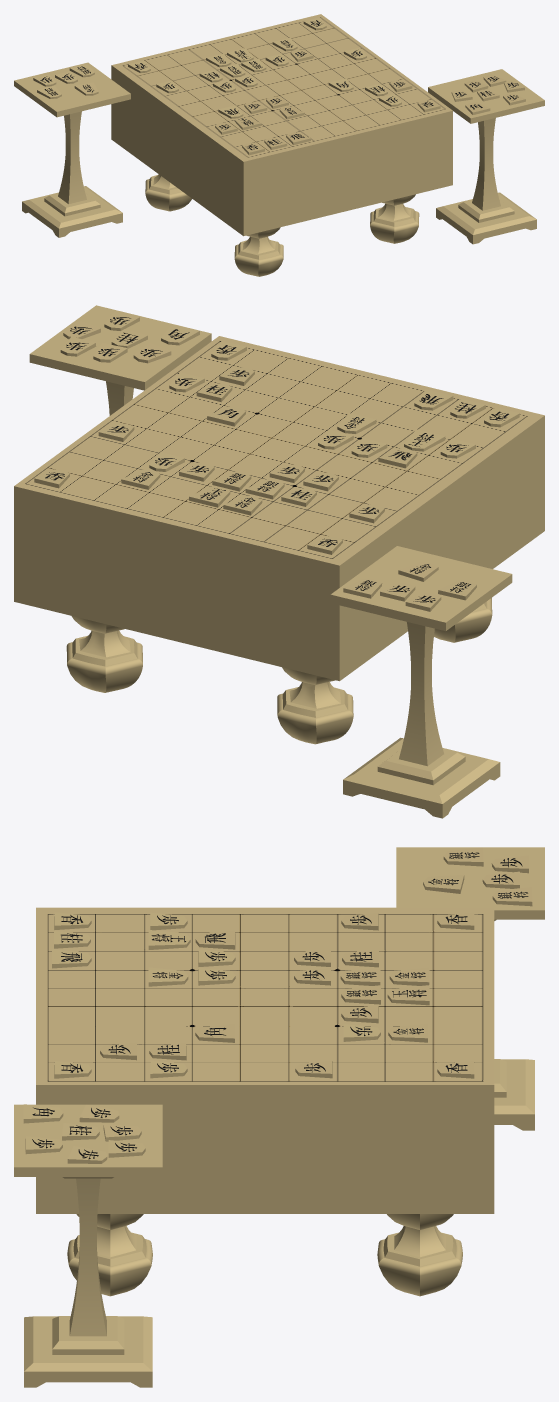
File: 631_将棋セット勝敗ついた状態.glb
The picture shows the model from 3 angles, top to bottom: view 1: azimuth 30°, elevation 25°; view 2: azimuth 150°, elevation 25°; view 3: azimuth 270°, elevation 25°; orthographic projection. The views are drawn at different scales.
Visible parts, largest first — view 1: syougi_ban, komadai2, komadai1; view 2: syougi_ban, komadai2, komadai1, oh; view 3: syougi_ban, komadai1, komadai2, oh, gyoku, kaku, kin1, hisha.001, kin2, gin1, gin2, kin2.001 (+5 smaller).
Boxes of the visible parts, x1=… form: syougi_ban: x1=111, y1=14, x2=452, y2=276; komadai2: x1=14, y1=62, x2=130, y2=237; komadai1: x1=428, y1=69, x2=544, y2=244; syougi_ban: x1=14, y1=336, x2=544, y2=744; komadai2: x1=330, y1=546, x2=512, y2=818; komadai1: x1=29, y1=305, x2=211, y2=415; oh: x1=404, y1=429, x2=445, y2=451; syougi_ban: x1=36, y1=907, x2=494, y2=1296; komadai1: x1=14, y1=1104, x2=162, y2=1387; komadai2: x1=396, y1=847, x2=544, y2=1130; oh: x1=148, y1=930, x2=190, y2=949; gyoku: x1=387, y1=985, x2=429, y2=1005; kaku: x1=23, y1=1104, x2=63, y2=1123; kin1: x1=148, y1=967, x2=188, y2=986; hisha.001: x1=195, y1=930, x2=235, y2=949; kin2: x1=423, y1=874, x2=464, y2=893; gin1: x1=492, y1=887, x2=532, y2=906; gin2: x1=443, y1=847, x2=483, y2=866; kin2.001: x1=389, y1=967, x2=429, y2=985.
Bounding box in the file's own units: 0.6114 × 0.213 × 0.4287.
22 materials, 1 textured.
